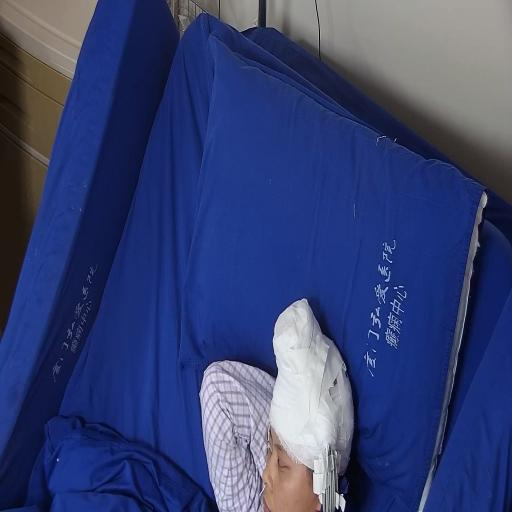Seizure: (250, 378, 324, 511)
